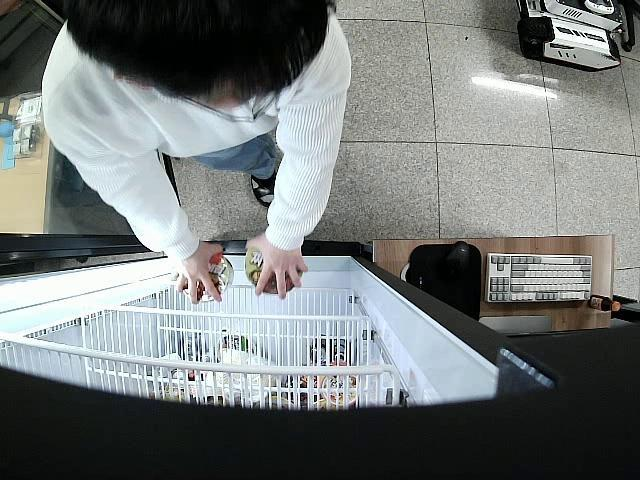03_chapagetti_L: (246, 244, 300, 295), (173, 258, 232, 301)
